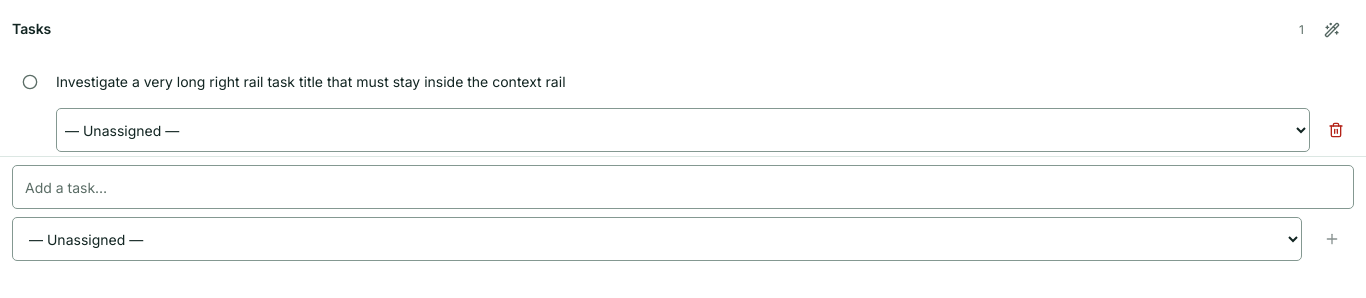
Test case: TasksSection right-rail containment › wraps long auto-route toast text inside the rail
The image size is (1366, 298).
Click the button with test id "right-rail-auto-route-button": click(1332, 30) [1310,8,1354,52]
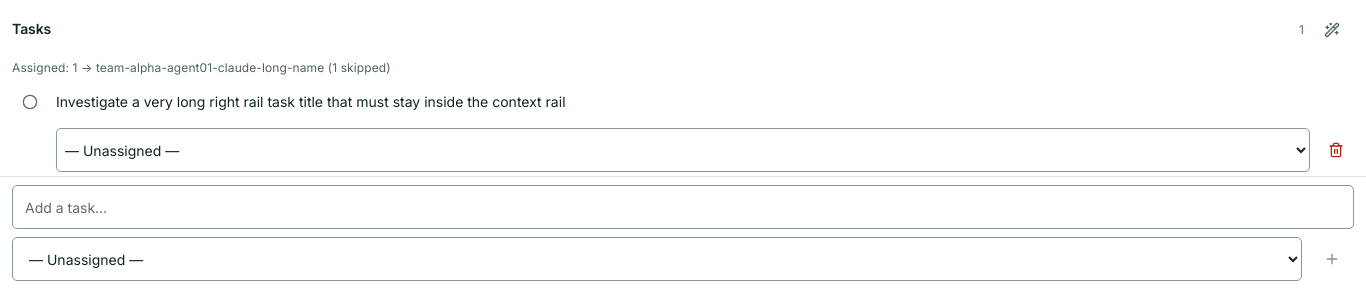
Expected: the message with test id "right-rail-route-toast" shows "team-alpha-agent01-claude-long-name", [12,60,391,75]
